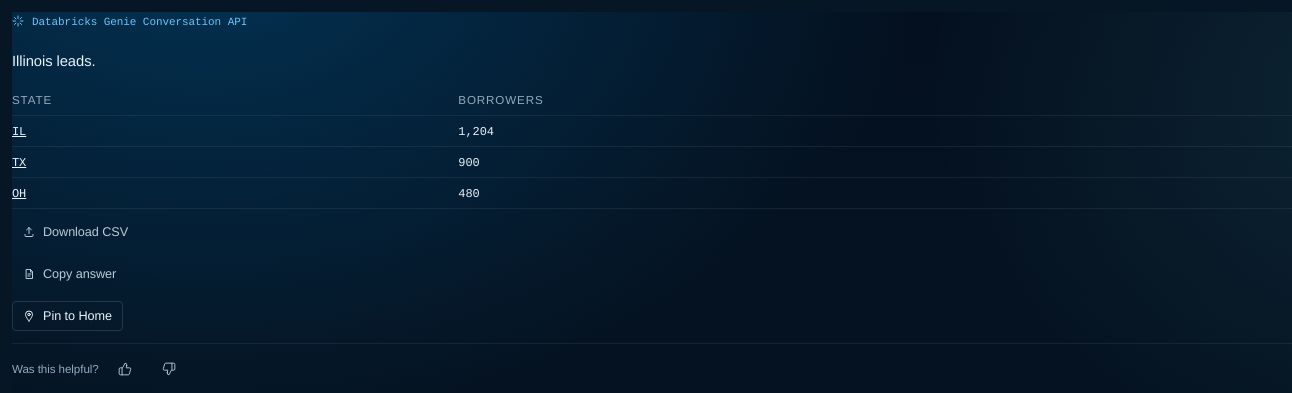
Test case: Genie answer CSV download (genie-06 slice 2) › an export in flight across a remount still shows "Recording export…", then its outcome, with one receipt POST (genie-08)
Step 1. Click the button with class "genie-answer__download" → x=76, y=232, box [12,217,139,247]
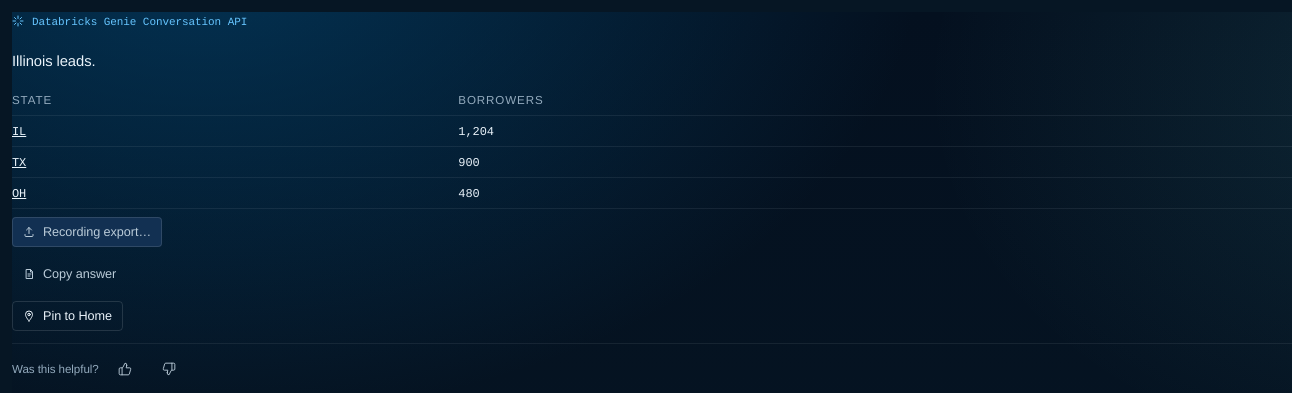
Now the button with class "genie-answer__download" is disabled
Now the button with class "genie-answer__download" reads "Recording export…"
Step 2. Click the button with class "genie-answer__download" → x=87, y=232, box [12,217,162,247]
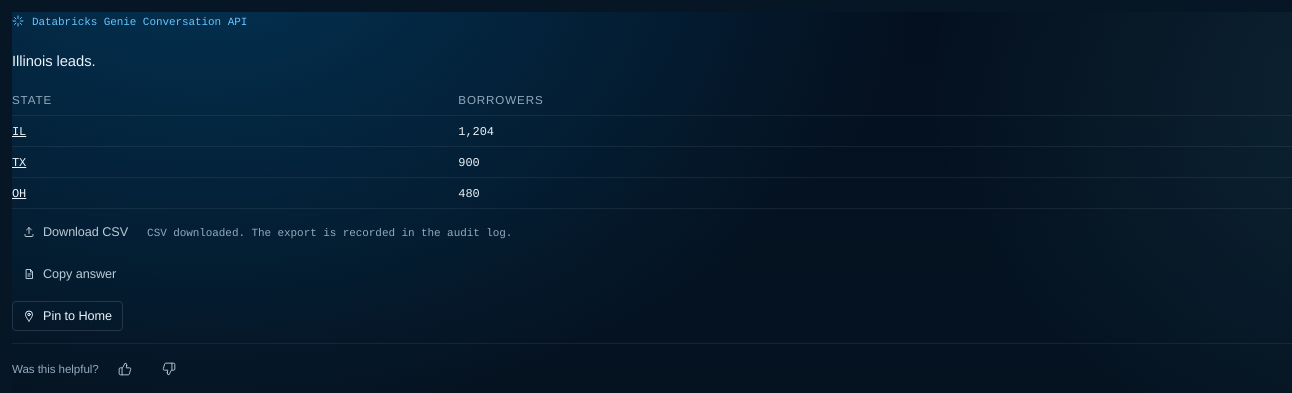
Now the text "CSV downloaded. The export is recorded in the audit log." is shown, box [147,224,512,240]
Now the button with class "genie-answer__download" is enabled, box [12,217,139,247]
